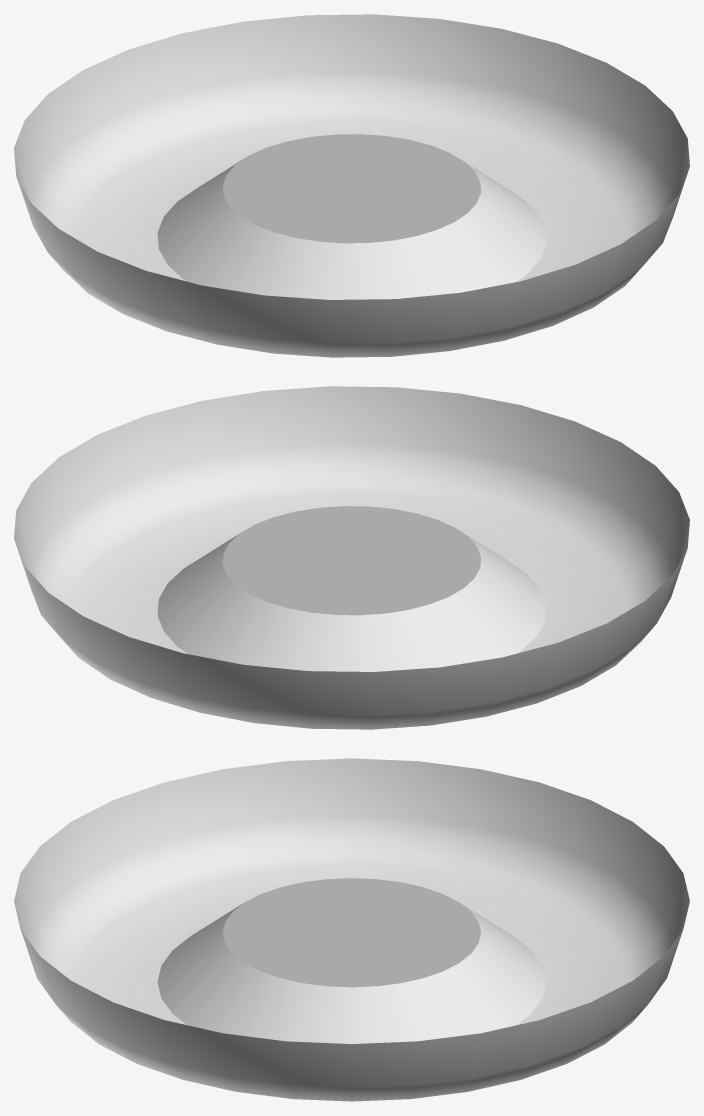
The model's file is SM_Lamp_01.fbx.
3 renders of one model, top to bottom at view 1: azimuth 30°, elevation 25°; view 2: azimuth 150°, elevation 25°; view 3: azimuth 270°, elevation 25°, orthographic.
Visible parts, largest first — view 1: SM_Lamp_01; view 2: SM_Lamp_01; view 3: SM_Lamp_01.
Boxes of the visible parts, x1,y1,x2,y2 form: SM_Lamp_01: (14,14,689,357); SM_Lamp_01: (14,386,689,729); SM_Lamp_01: (14,758,689,1101).
Bounding box in the file's own units: 18.52 × 2.44 × 18.52.
